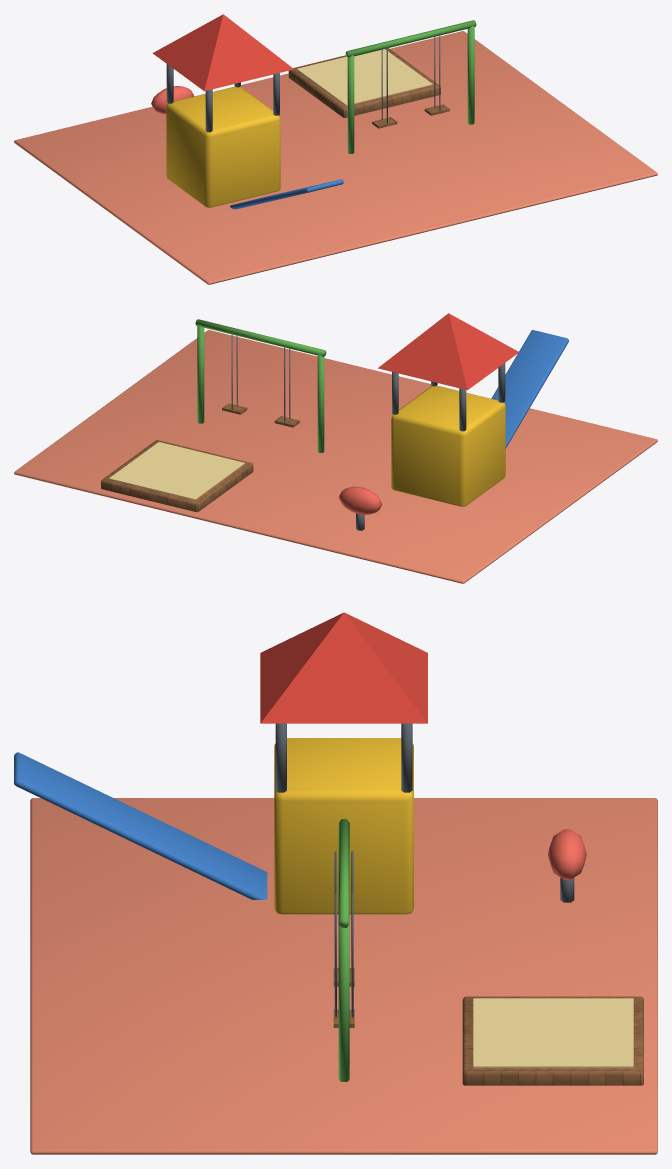
File: playground.gltf
The picture shows the model from 3 angles, top to bottom: view 1: azimuth 30°, elevation 25°; view 2: azimuth 150°, elevation 25°; view 3: azimuth 270°, elevation 25°; orthographic projection. The views are drawn at different scales.
Parts seen in each view (by area): view 1: playground_mesh; view 2: playground_mesh; view 3: playground_mesh.
Boxes of the visible parts, x1,y1,x2,y2 form: playground_mesh: [14, 14, 657, 284]; playground_mesh: [14, 313, 657, 583]; playground_mesh: [14, 612, 657, 1154].
Size of what is drawn, in the model's own units: 12 by 4.47 by 9.23.
Materials: 9 (1 with a texture image).
